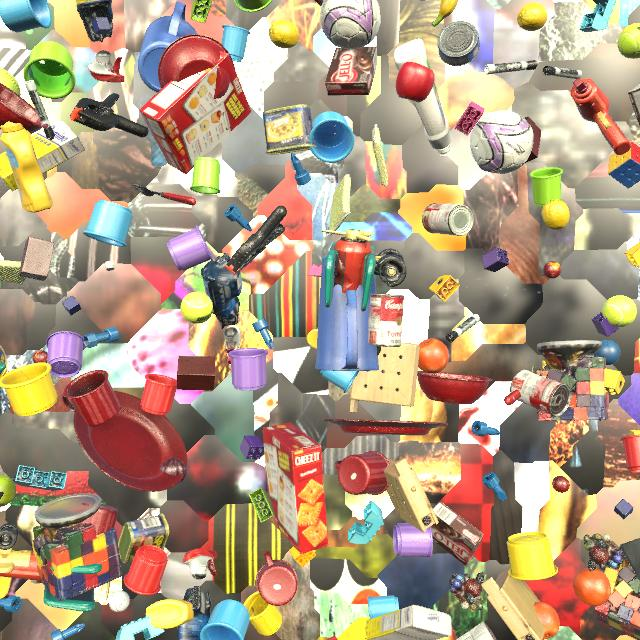ycb_003_cracker_box: (139, 51, 251, 174), (263, 423, 328, 554)
ycb_004_sugar_box: (0, 120, 85, 191), (364, 605, 452, 640)
ycb_005_tomato_soup_can: (510, 370, 572, 416), (368, 294, 404, 347), (422, 203, 474, 236)
ycb_006_mustard_bottle: (0, 122, 53, 213), (146, 599, 194, 629), (0, 346, 7, 378)
ycb_007_tuna_fish_can: (437, 21, 480, 66)
ycb_008_pudding_box: (431, 502, 484, 566), (325, 46, 378, 96), (456, 621, 497, 640), (628, 84, 640, 126)
ycb_010_potted_meat_can: (263, 104, 317, 155), (118, 513, 169, 563)
ycb_011_banana: (432, 0, 458, 27)
ycb_013_apple: (396, 62, 435, 102)
ycb_014_lemon: (542, 199, 570, 231), (269, 20, 300, 48), (517, 3, 547, 31)
ycb_015_peach: (437, 627, 456, 640)
ycb_016_pear: (0, 474, 16, 507)
ycb_017_orange: (573, 568, 611, 606), (418, 338, 449, 374), (534, 602, 560, 640)
ycb_018_plum: (160, 457, 187, 483)
